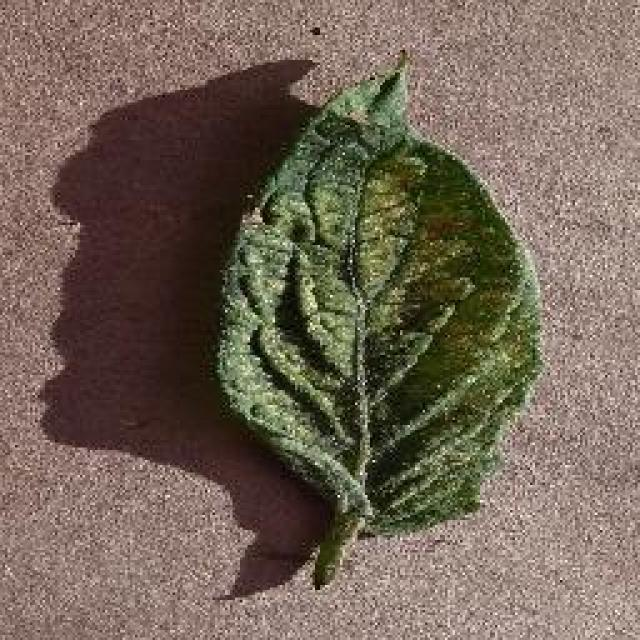Tom_Spider_mites Two-spotted_spider_mite: (255, 178, 519, 460)
